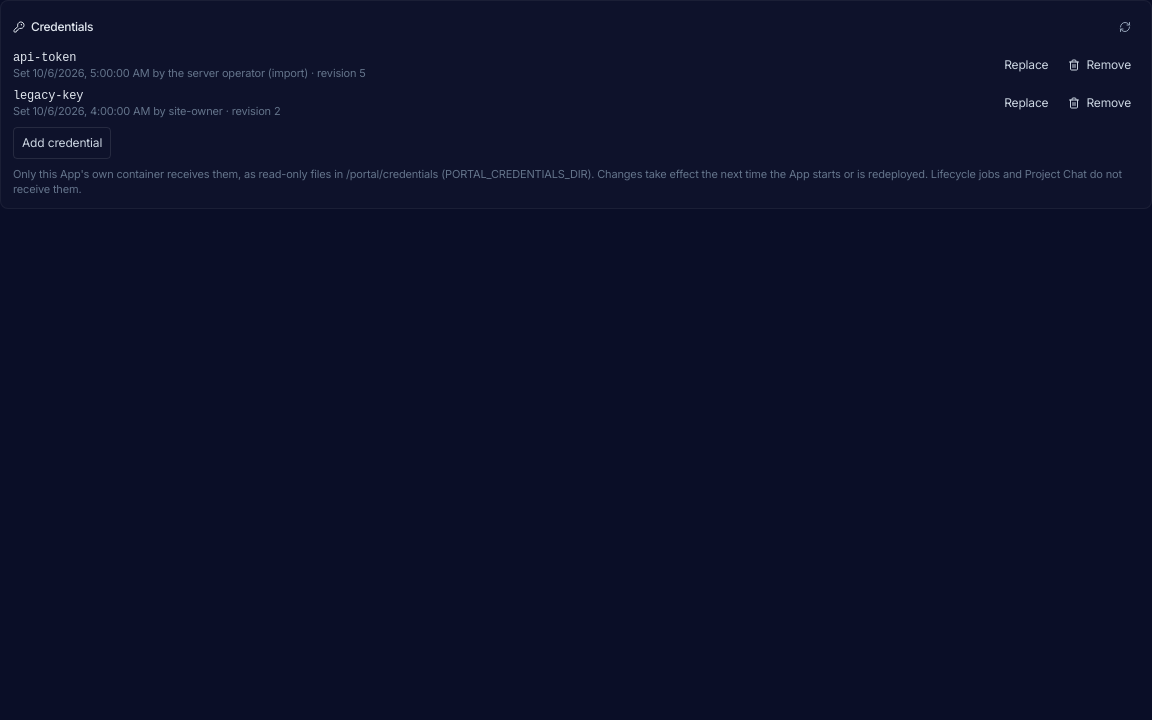
Project App credentials › replaces exactly the listed revision and removes only after confirmation
Step 1. Click the button with aria-label "Replace api-token" → click(1026, 65), box [996, 49, 1056, 81]
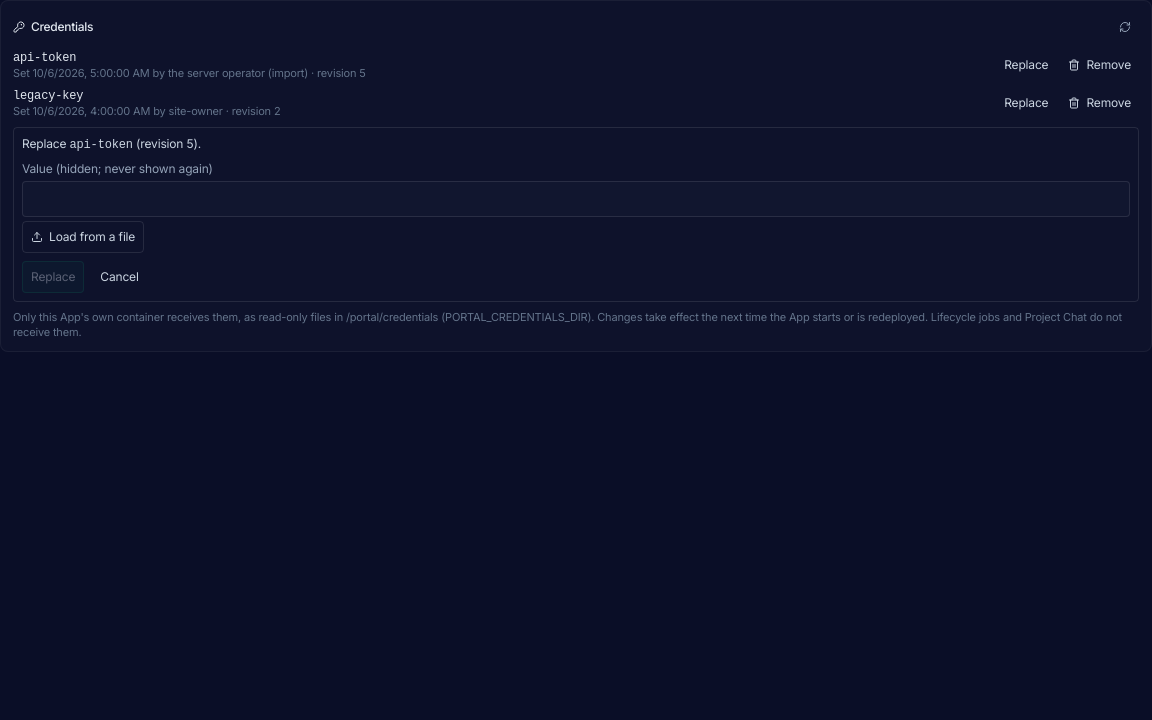
Expected: the text "Replace api-token (revision 5)." is shown, [22, 136, 201, 152]
Step 2. Type "DUMMY-NOT-A-REAL-SECRET" into the password field labelled "Value (hidden; never shown again)" → (576, 199), box [22, 181, 1130, 217]
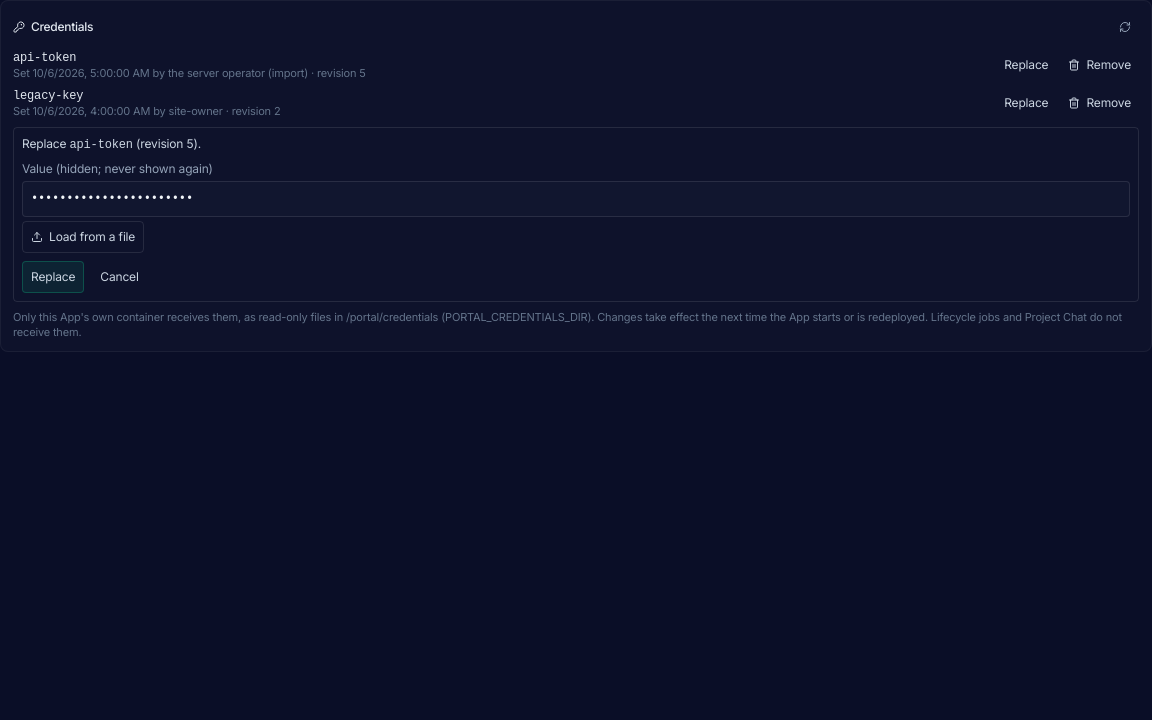
Step 3. Click the button "Replace" below "Load from a file" → click(53, 277), box [22, 261, 84, 293]
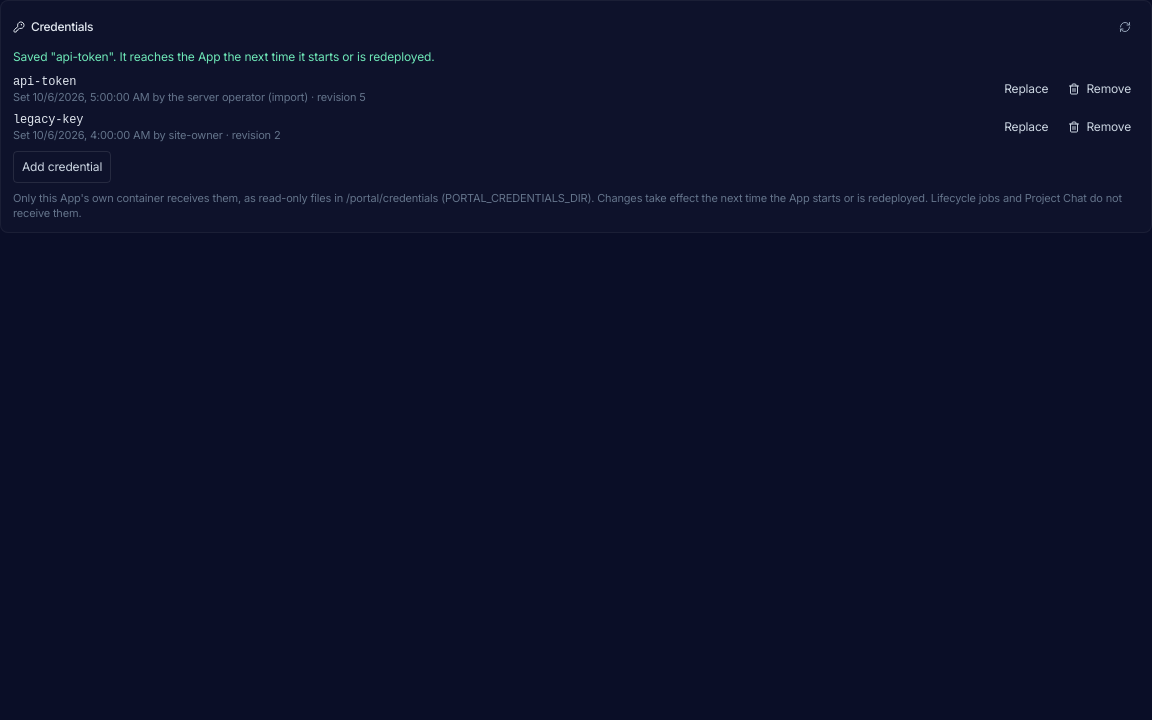
Step 4. Click the button with aria-label "Remove legacy-key" → click(1100, 127), box [1060, 111, 1139, 143]
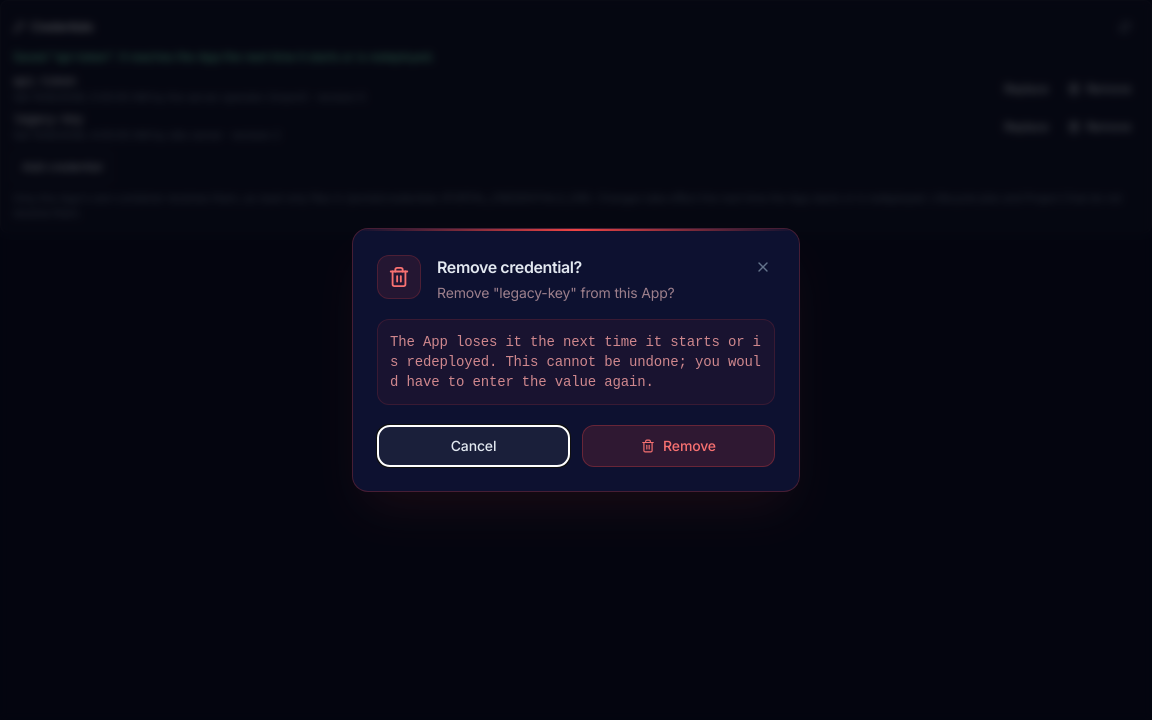
Step 5. Click the button "Remove" → click(678, 446), box [582, 425, 775, 467]
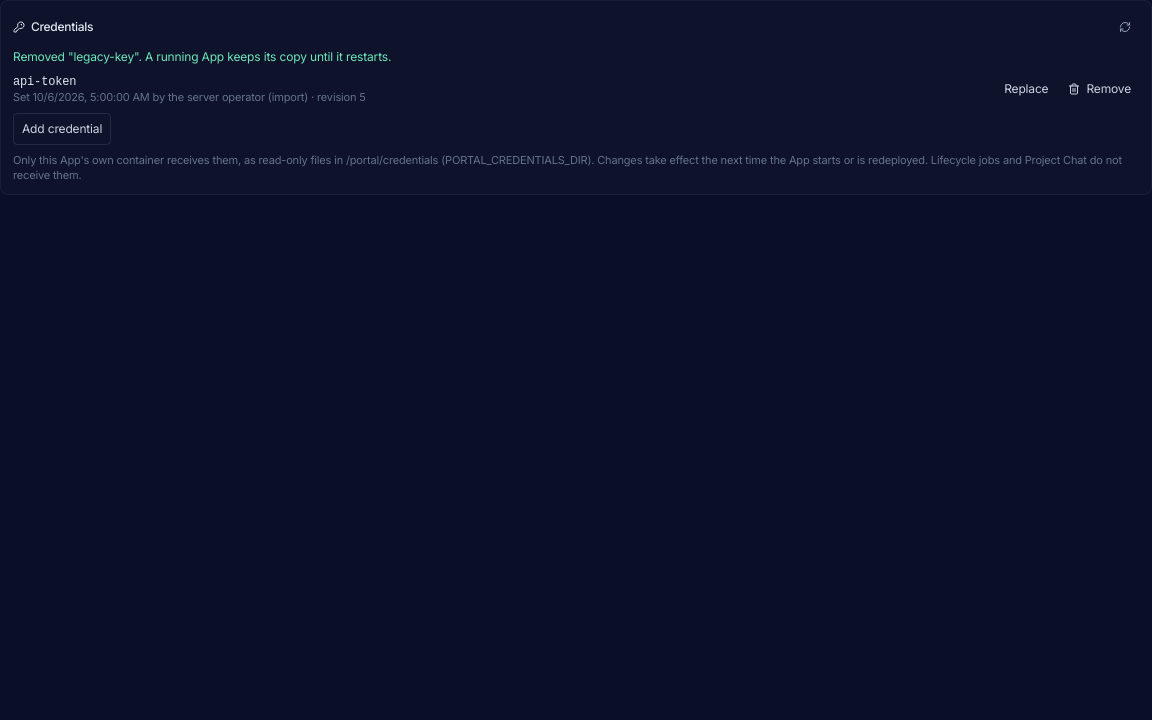
Expected: the text "Removed \"legacy-key\". A running App keeps its copy until it restarts." is shown, [13, 49, 391, 64]
